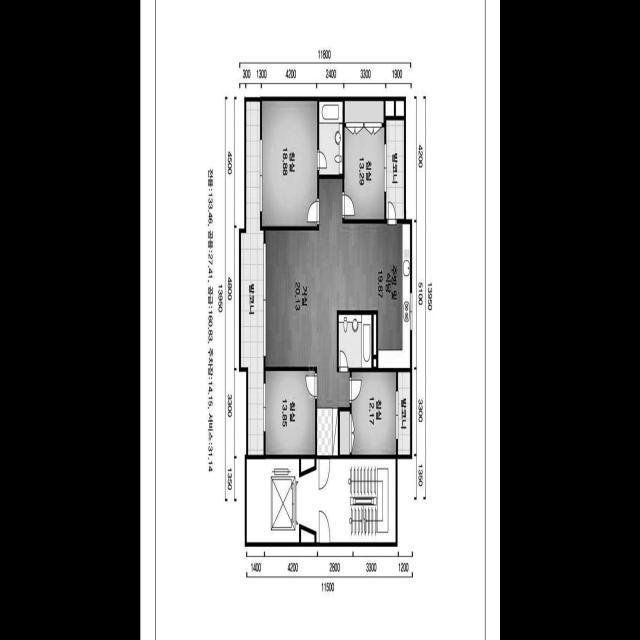background: (140, 0, 500, 640)
space_balconi: (241, 101, 263, 455), (386, 120, 404, 219), (398, 372, 410, 455)
space_bedroom: (262, 101, 317, 226), (344, 101, 384, 220), (339, 372, 396, 455), (265, 371, 315, 455)
space_elevator: (246, 459, 299, 543)
space_front: (317, 408, 338, 456)
space_kitchen: (342, 223, 410, 368)
space_living_room: (265, 179, 350, 408)
space_other: (301, 459, 314, 473), (301, 529, 314, 543), (385, 101, 394, 116), (373, 314, 376, 355), (396, 101, 404, 116), (373, 359, 376, 367)
space_staircase: (299, 459, 395, 543)
space_toilet: (338, 314, 371, 368), (319, 102, 343, 175)
